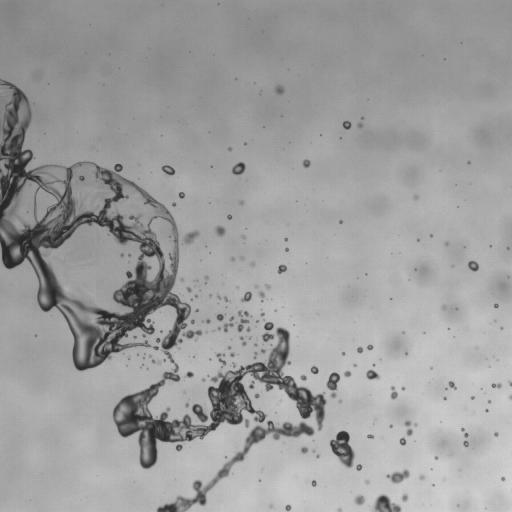droplet: (329, 430, 354, 468), (236, 310, 251, 332), (386, 469, 409, 483), (183, 230, 199, 244), (404, 420, 417, 436), (232, 162, 245, 174), (161, 165, 174, 175), (366, 369, 379, 379), (215, 225, 225, 236), (468, 260, 478, 271), (241, 291, 251, 302), (354, 495, 364, 505), (390, 386, 397, 399), (275, 85, 284, 94), (277, 264, 286, 273), (342, 121, 350, 129), (302, 159, 310, 167), (310, 366, 318, 374), (448, 381, 456, 389), (184, 371, 193, 378), (401, 493, 408, 502), (240, 336, 246, 346), (216, 314, 224, 321), (399, 437, 406, 445), (300, 446, 308, 453), (259, 291, 265, 300), (344, 370, 351, 377), (492, 383, 501, 388), (78, 175, 85, 181), (285, 504, 291, 511), (178, 192, 184, 198), (223, 296, 229, 302), (367, 344, 373, 350), (357, 347, 363, 353), (356, 464, 362, 470), (253, 352, 258, 359), (230, 352, 236, 357), (300, 375, 306, 380), (311, 480, 316, 486), (357, 122, 362, 127), (413, 195, 418, 200), (265, 284, 270, 289), (260, 348, 265, 353), (254, 393, 259, 398), (463, 441, 468, 446), (119, 253, 125, 257), (204, 275, 208, 281), (260, 311, 264, 317), (367, 434, 373, 438), (227, 214, 231, 219), (494, 303, 498, 308), (205, 319, 210, 323), (419, 475, 424, 479), (501, 476, 505, 481), (239, 200, 243, 204), (240, 256, 244, 260), (251, 262, 255, 266), (187, 287, 191, 291), (401, 386, 405, 390), (494, 432, 498, 436), (365, 480, 369, 484), (337, 508, 342, 511), (242, 235, 245, 239), (231, 257, 234, 261), (179, 278, 183, 281), (442, 305, 445, 309), (191, 320, 194, 324), (254, 342, 257, 346), (185, 403, 188, 407), (509, 381, 511, 386), (228, 147, 231, 150), (339, 220, 342, 223), (445, 242, 448, 245), (285, 248, 288, 251), (254, 285, 257, 288), (217, 295, 220, 298), (227, 346, 230, 349), (202, 378, 205, 381), (389, 424, 392, 427), (316, 454, 319, 457), (127, 254, 131, 256), (467, 161, 470, 163), (34, 192, 36, 195), (172, 203, 175, 205), (430, 234, 432, 237), (284, 238, 287, 240), (194, 295, 197, 297), (342, 352, 344, 355), (471, 396, 473, 399), (486, 409, 488, 412), (312, 450, 315, 452), (435, 456, 437, 459), (269, 505, 272, 507), (195, 309, 197, 311), (256, 320, 258, 322), (500, 327, 502, 329), (149, 355, 151, 357), (354, 364, 356, 366), (339, 400, 341, 402)
ligament: (0, 78, 324, 511), (369, 494, 401, 511), (326, 372, 340, 398), (216, 316, 234, 332), (461, 428, 468, 437), (509, 394, 511, 400)
